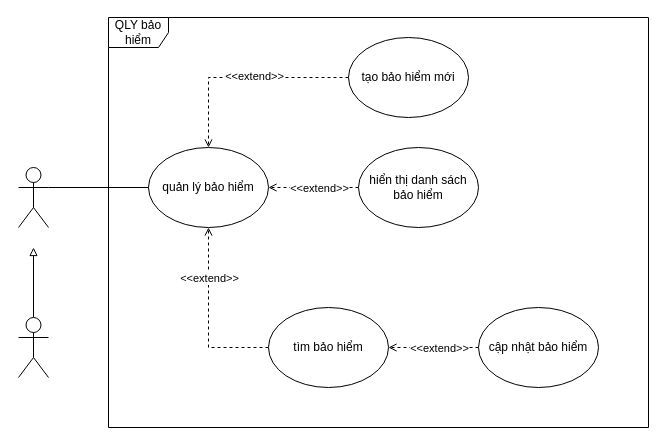
The diagram is 666 pixels wide and 445 high, and some of its shapes have lost their labels. Each missing label, with the centre of its shape:
"admin" belongs at pixel 33 347.
"HR" belongs at pixel 33 197.
